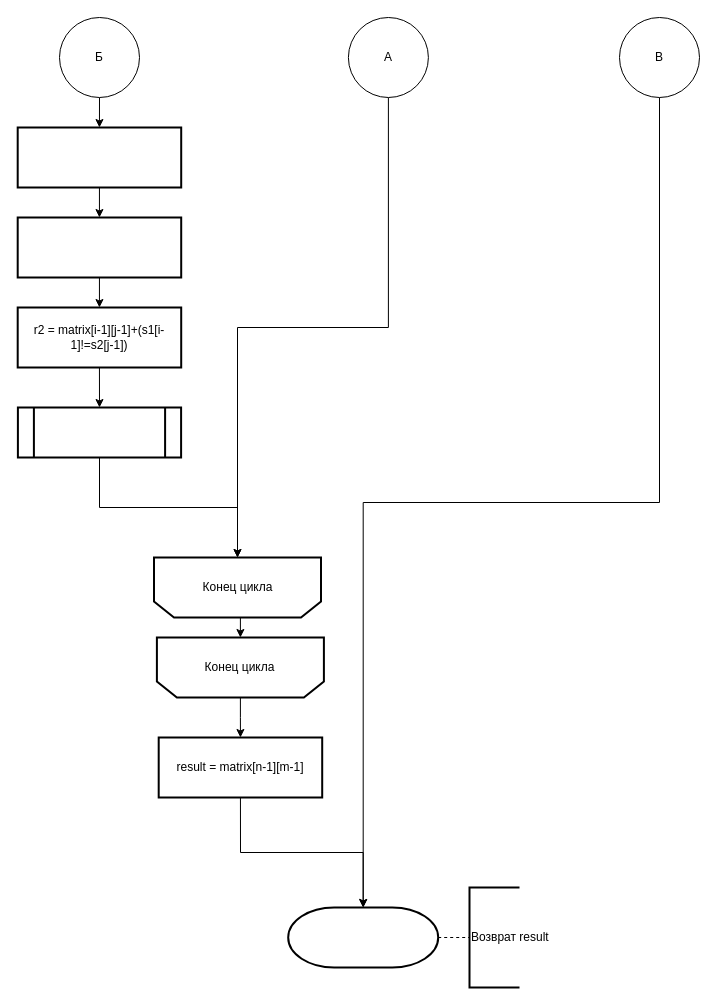
The diagram is 718 pixels wide and 1006 high, and some of its shapes have lost their labels. Here are the shapes that lost their labels. From the top down, the box of each, then its label:
(16, 126, 182, 188): r = matrix[i][j-1]+1
(16, 216, 182, 278): r1 = matrix[i-1][j]+1
(16, 406, 182, 458): matrix[i][j]= min(r, r2, r3)
(287, 906, 439, 968): Конец
